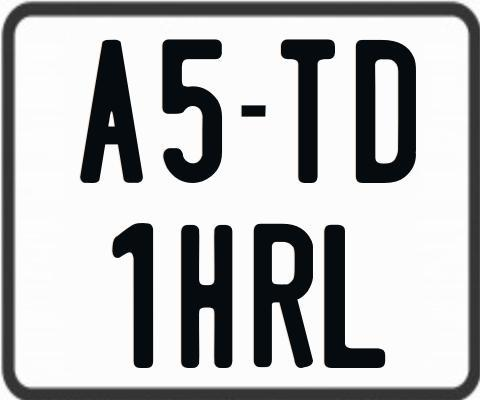1: (112, 222, 156, 370)
5: (160, 37, 225, 187)
A: (77, 40, 144, 189)
D: (355, 39, 420, 184)
H: (179, 223, 230, 371)
L: (322, 224, 388, 371)
R: (254, 221, 315, 369)
T: (278, 39, 333, 184)
